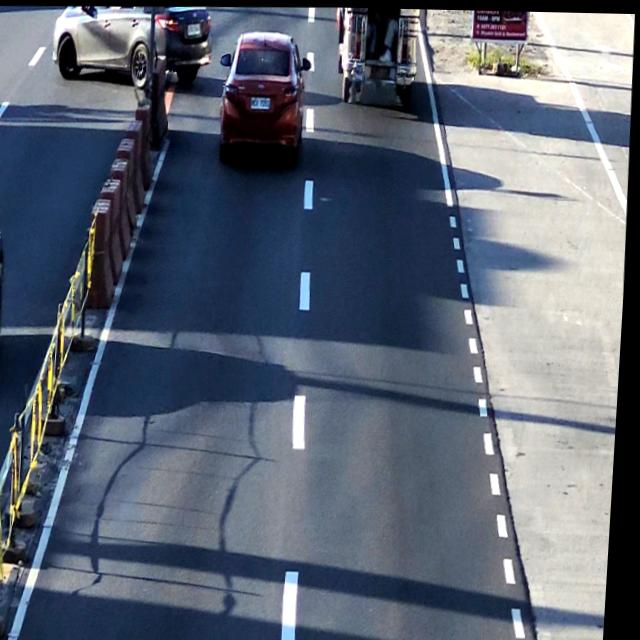Car: (214, 28, 305, 156)
Jeep: (338, 6, 421, 98)
License-Plate: (249, 92, 271, 109)
